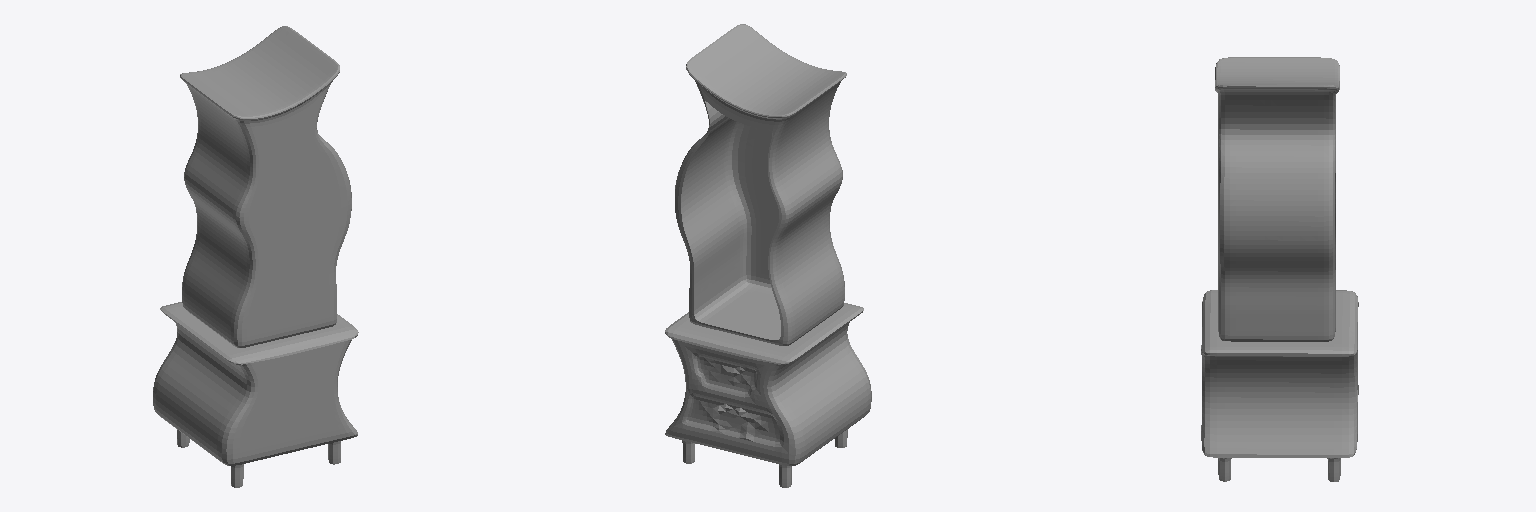
File: bookshelf.obj
3 views of the same model, side by side, from view 1: azimuth 30°, elevation 25°; view 2: azimuth 150°, elevation 25°; view 3: azimuth 270°, elevation 25° (orthographic).
Visible parts, largest first — view 1: bookshelf_Group_bookshelf; view 2: bookshelf_Group_bookshelf; view 3: bookshelf_Group_bookshelf.
Boxes of the visible parts, <box> form: bookshelf_Group_bookshelf: <box>153,26,358,487</box>; bookshelf_Group_bookshelf: <box>665,24,871,487</box>; bookshelf_Group_bookshelf: <box>1201,57,1358,481</box>.
Size of the model in its own units: 0.7326 by 2 by 0.7175.